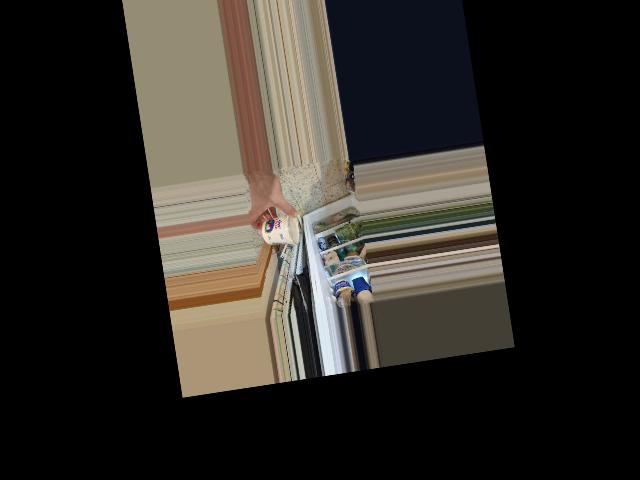cotage: (258, 214, 293, 242)
